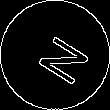N_NW: (23, 25, 87, 85)
